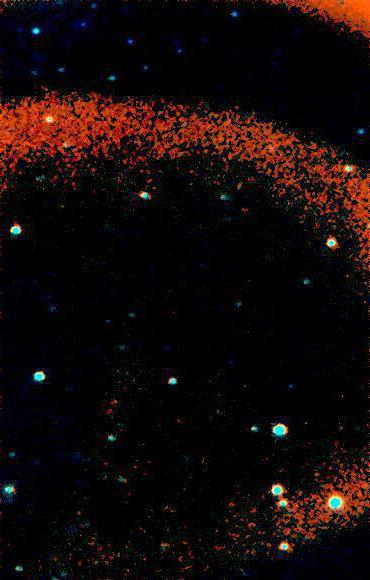star: (225, 164, 255, 194)
